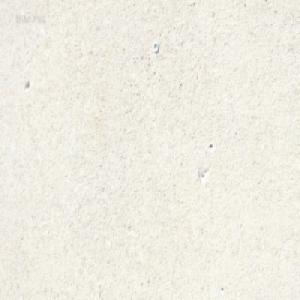Washer: (152, 41, 158, 52)
